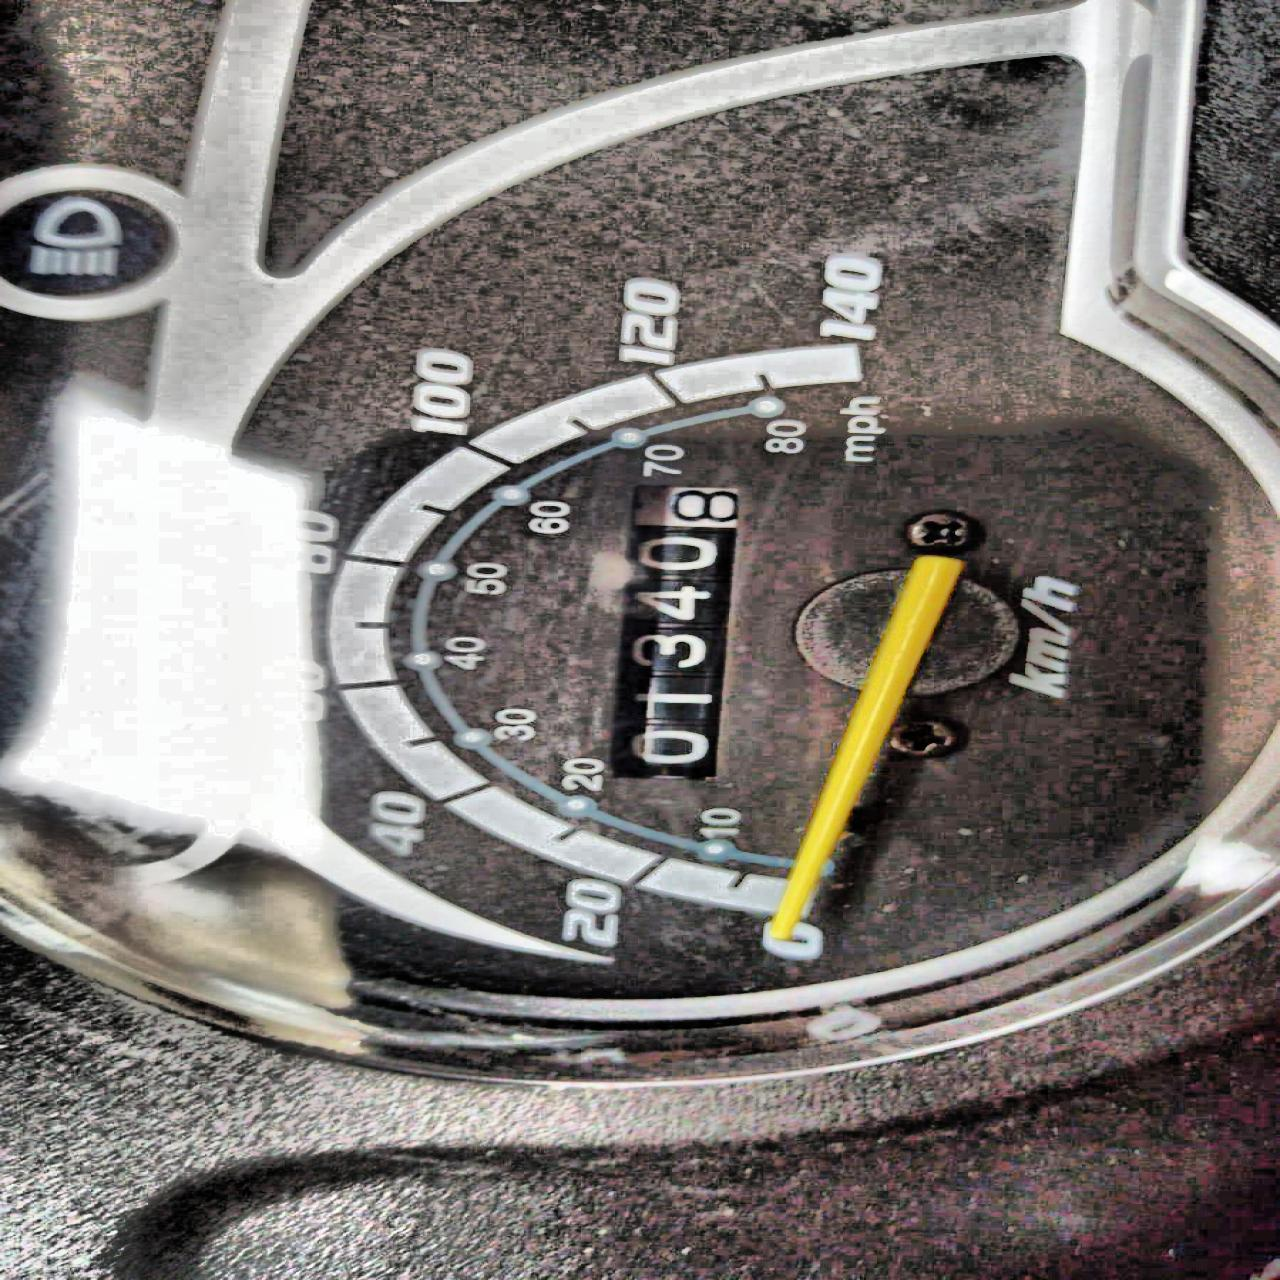0: (632, 535, 719, 572), (631, 728, 708, 763)
1: (626, 686, 714, 708)
3: (628, 633, 710, 668)
4: (634, 585, 713, 620)
8: (665, 489, 736, 523)
odometer: (612, 478, 736, 791)
